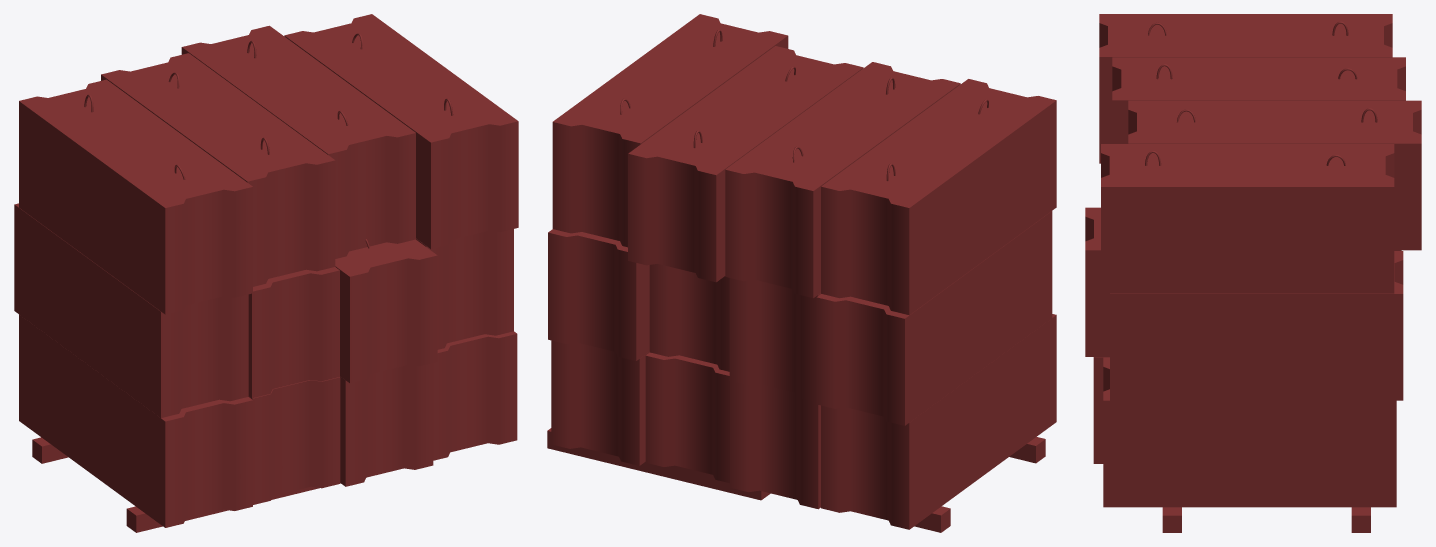
The model's file is SM_Stone02Pack02.fbx.
3 renders of one model, left to right at view 1: azimuth 30°, elevation 25°; view 2: azimuth 150°, elevation 25°; view 3: azimuth 270°, elevation 25°, orthographic.
Parts seen in each view (by area): view 1: Stone02Pack02; view 2: Stone02Pack02; view 3: Stone02Pack02.
Part boxes in pixels (box(x1,y1,x2,y2)): Stone02Pack02: box(14, 14, 518, 532); Stone02Pack02: box(547, 14, 1056, 532); Stone02Pack02: box(1085, 14, 1421, 532).
Bounding box in the file's own units: 217 × 191 × 166.
